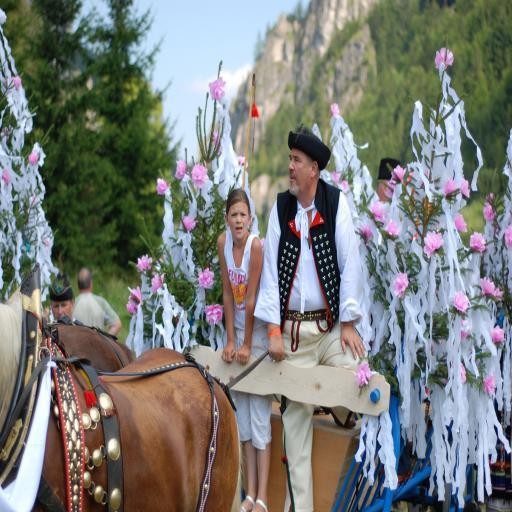horse: (0, 300, 242, 512), (50, 322, 134, 374)
